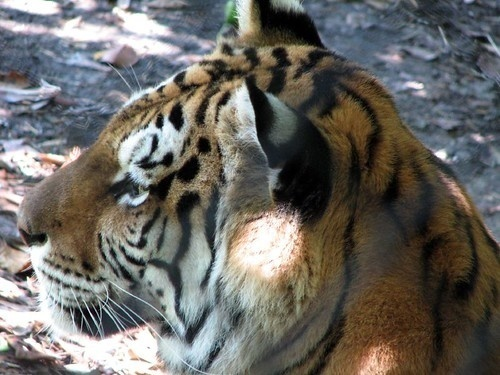tigre: (14, 4, 500, 375)
